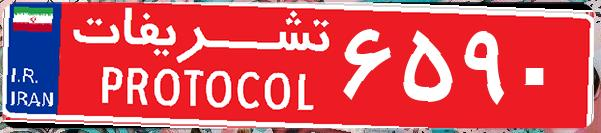0: (520, 20, 580, 115)
5: (400, 20, 460, 115)
6: (340, 20, 400, 115)
9: (460, 20, 520, 115)
تشریفات: (60, 8, 340, 125)
